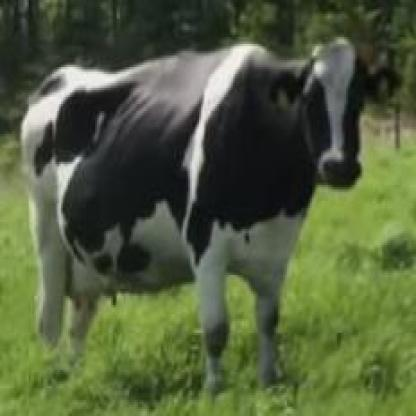cow: (22, 35, 407, 388)
